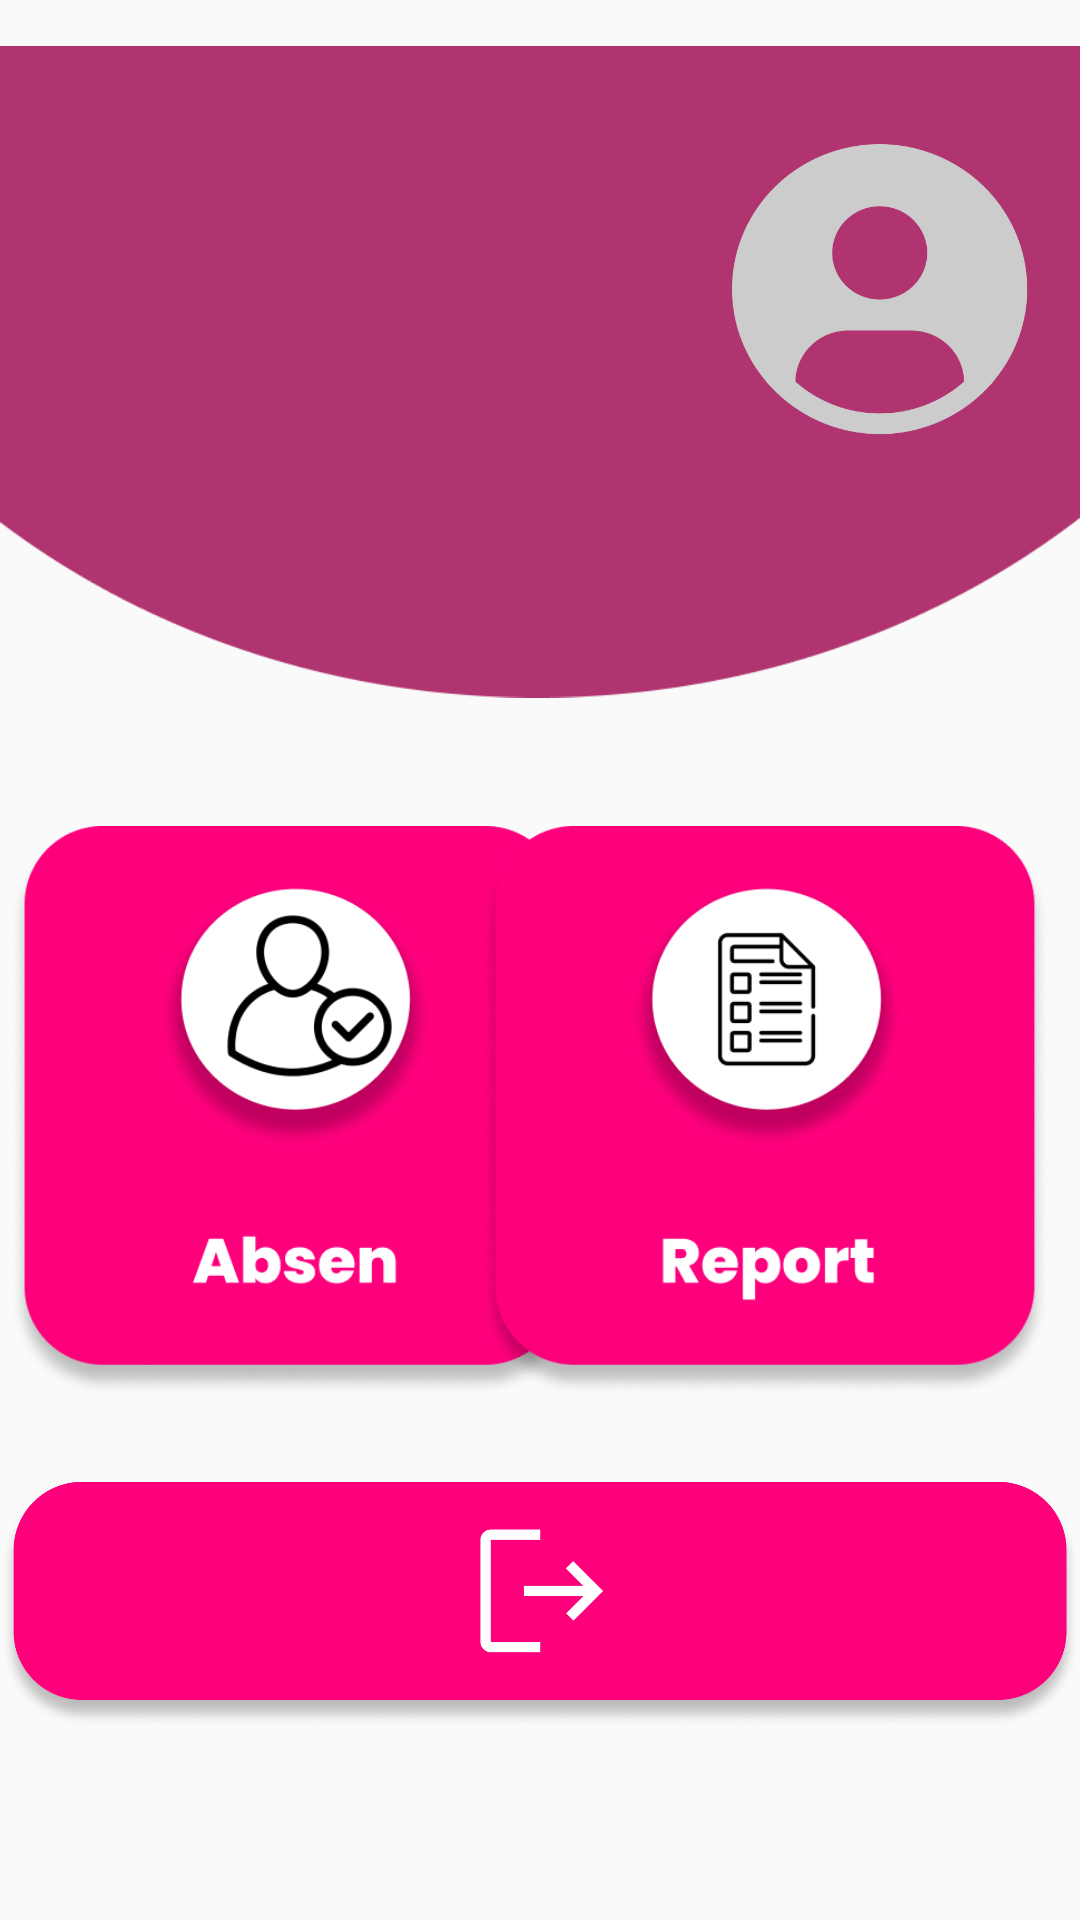

Screen size 1080 x 1920. Icon name, then its center in pixels as (x,y):
user: (879,289)
